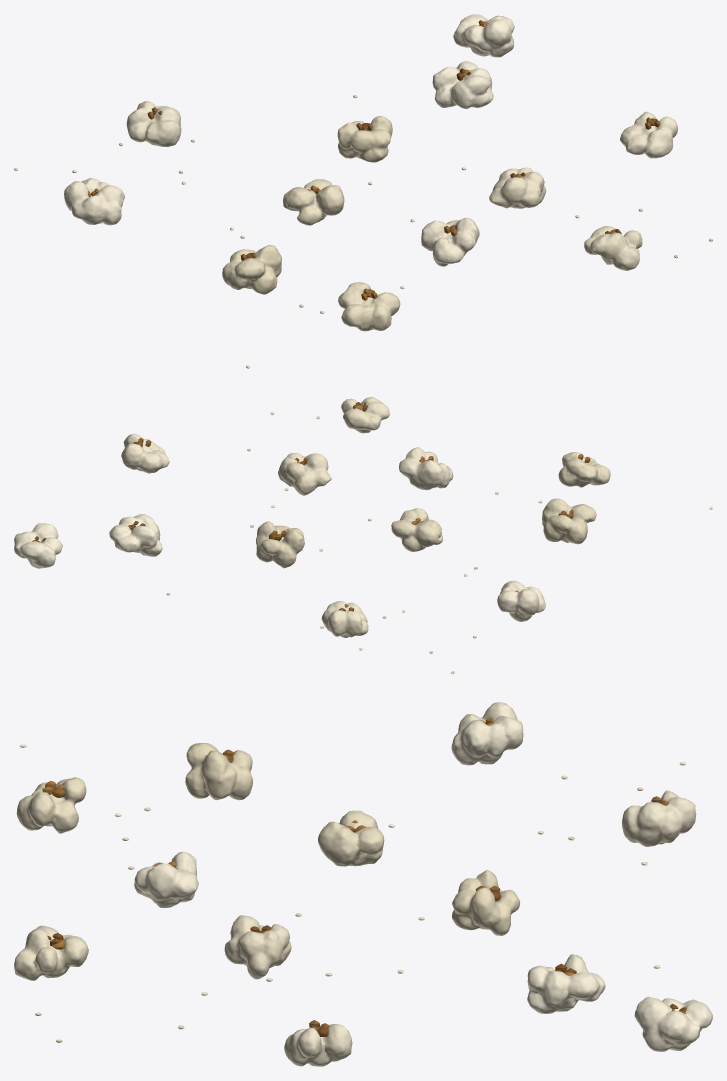
File: popcorn_v09.glb
3 renders of one model, top to bottom at view 1: azimuth 30°, elevation 25°; view 2: azimuth 150°, elevation 25°; view 3: azimuth 270°, elevation 25°, orthographic. The views are drawn at different scales.
Visible parts, largest first — view 1: KernelCream5, KernelCream4, KernelCream0, KernelCream1, KernelCream3, KernelCream2; view 2: KernelCream0, KernelCream5, KernelCream4, KernelCream1, KernelCream2, KernelCream3; view 3: KernelCream5, KernelCream0, KernelCream4, KernelCream2, KernelCream1, KernelCream3, ToastedHusk0.
Part boxes in pixels (x1,y1,x2,y2): KernelCream5: [181, 14, 514, 368]; KernelCream4: [64, 167, 579, 266]; KernelCream0: [72, 115, 712, 294]; KernelCream1: [178, 170, 414, 331]; KernelCream3: [14, 101, 677, 289]; KernelCream2: [119, 95, 642, 307]; KernelCream0: [247, 412, 596, 653]; KernelCream5: [14, 507, 712, 612]; KernelCream4: [250, 447, 545, 621]; KernelCream1: [319, 452, 610, 618]; KernelCream2: [166, 397, 476, 650]; KernelCream3: [121, 433, 498, 673]; KernelCream5: [19, 744, 712, 1051]; KernelCream0: [35, 743, 643, 1042]; KernelCream4: [122, 702, 523, 995]; KernelCream2: [14, 775, 660, 980]; KernelCream1: [16, 777, 574, 920]; KernelCream3: [128, 762, 696, 1066]; ToastedHusk0: [47, 755, 686, 1036].
Bounding box in the file's own units: 0.4217 × 0.0327 × 0.37.
